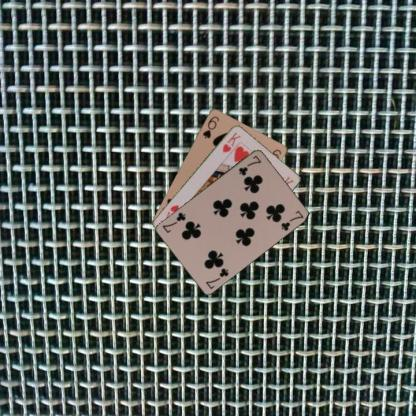6s: (200, 113, 220, 139)
7c: (203, 264, 230, 290), (236, 152, 263, 177)
Kh: (220, 130, 242, 154)
